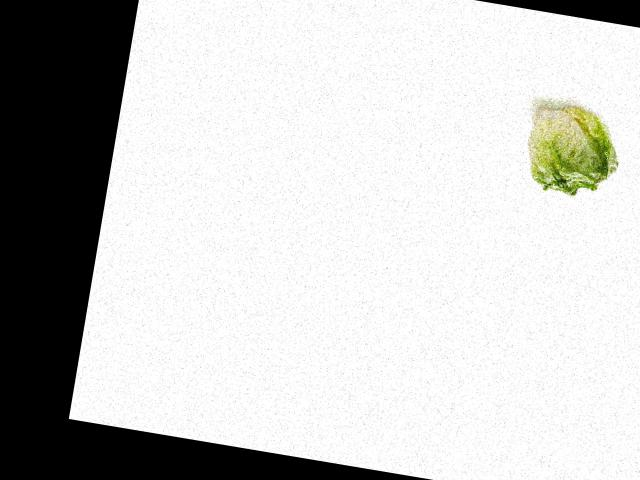lettuce: (513, 101, 630, 206)
